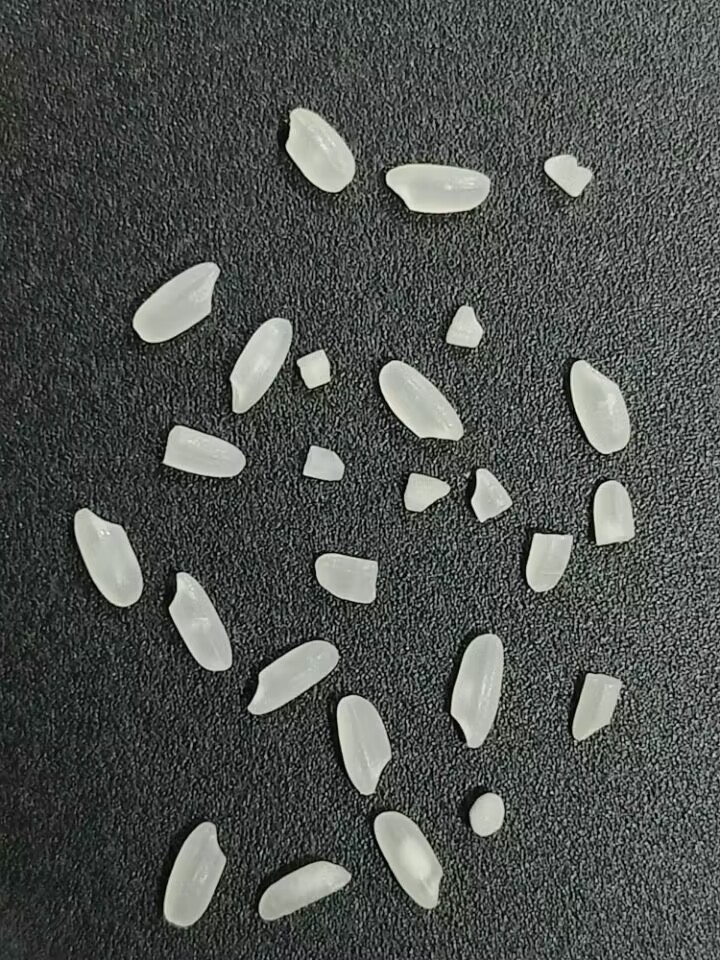broken: (160, 422, 247, 478), (569, 672, 622, 743), (314, 553, 379, 605), (395, 466, 460, 517), (524, 529, 573, 594), (590, 478, 635, 547), (542, 151, 594, 199), (470, 467, 514, 523), (297, 442, 349, 487), (467, 790, 507, 838), (445, 304, 484, 348), (297, 349, 331, 389)
rice: (129, 257, 221, 344), (371, 809, 446, 912), (161, 818, 230, 929), (72, 506, 146, 608), (245, 640, 343, 717), (445, 633, 507, 751), (377, 360, 465, 441), (167, 570, 234, 674), (282, 107, 357, 195), (229, 315, 295, 414), (568, 354, 633, 454), (257, 859, 353, 922), (335, 693, 392, 797), (382, 161, 493, 213)
